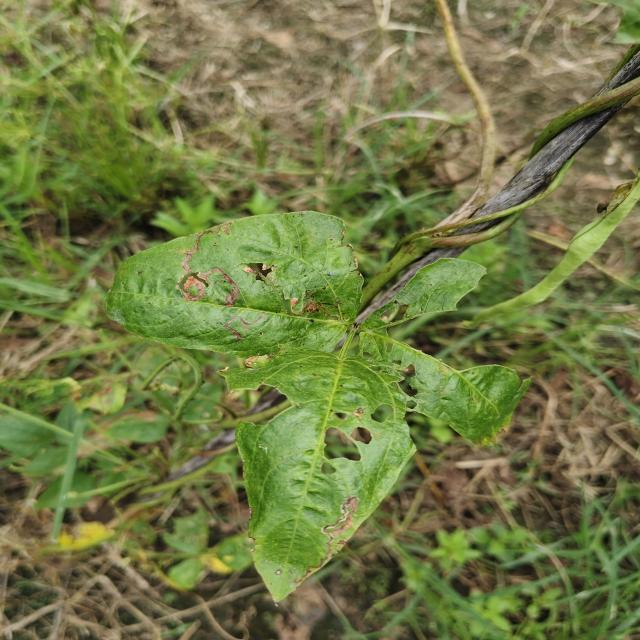leaf-moderate: (105, 211, 526, 587)
